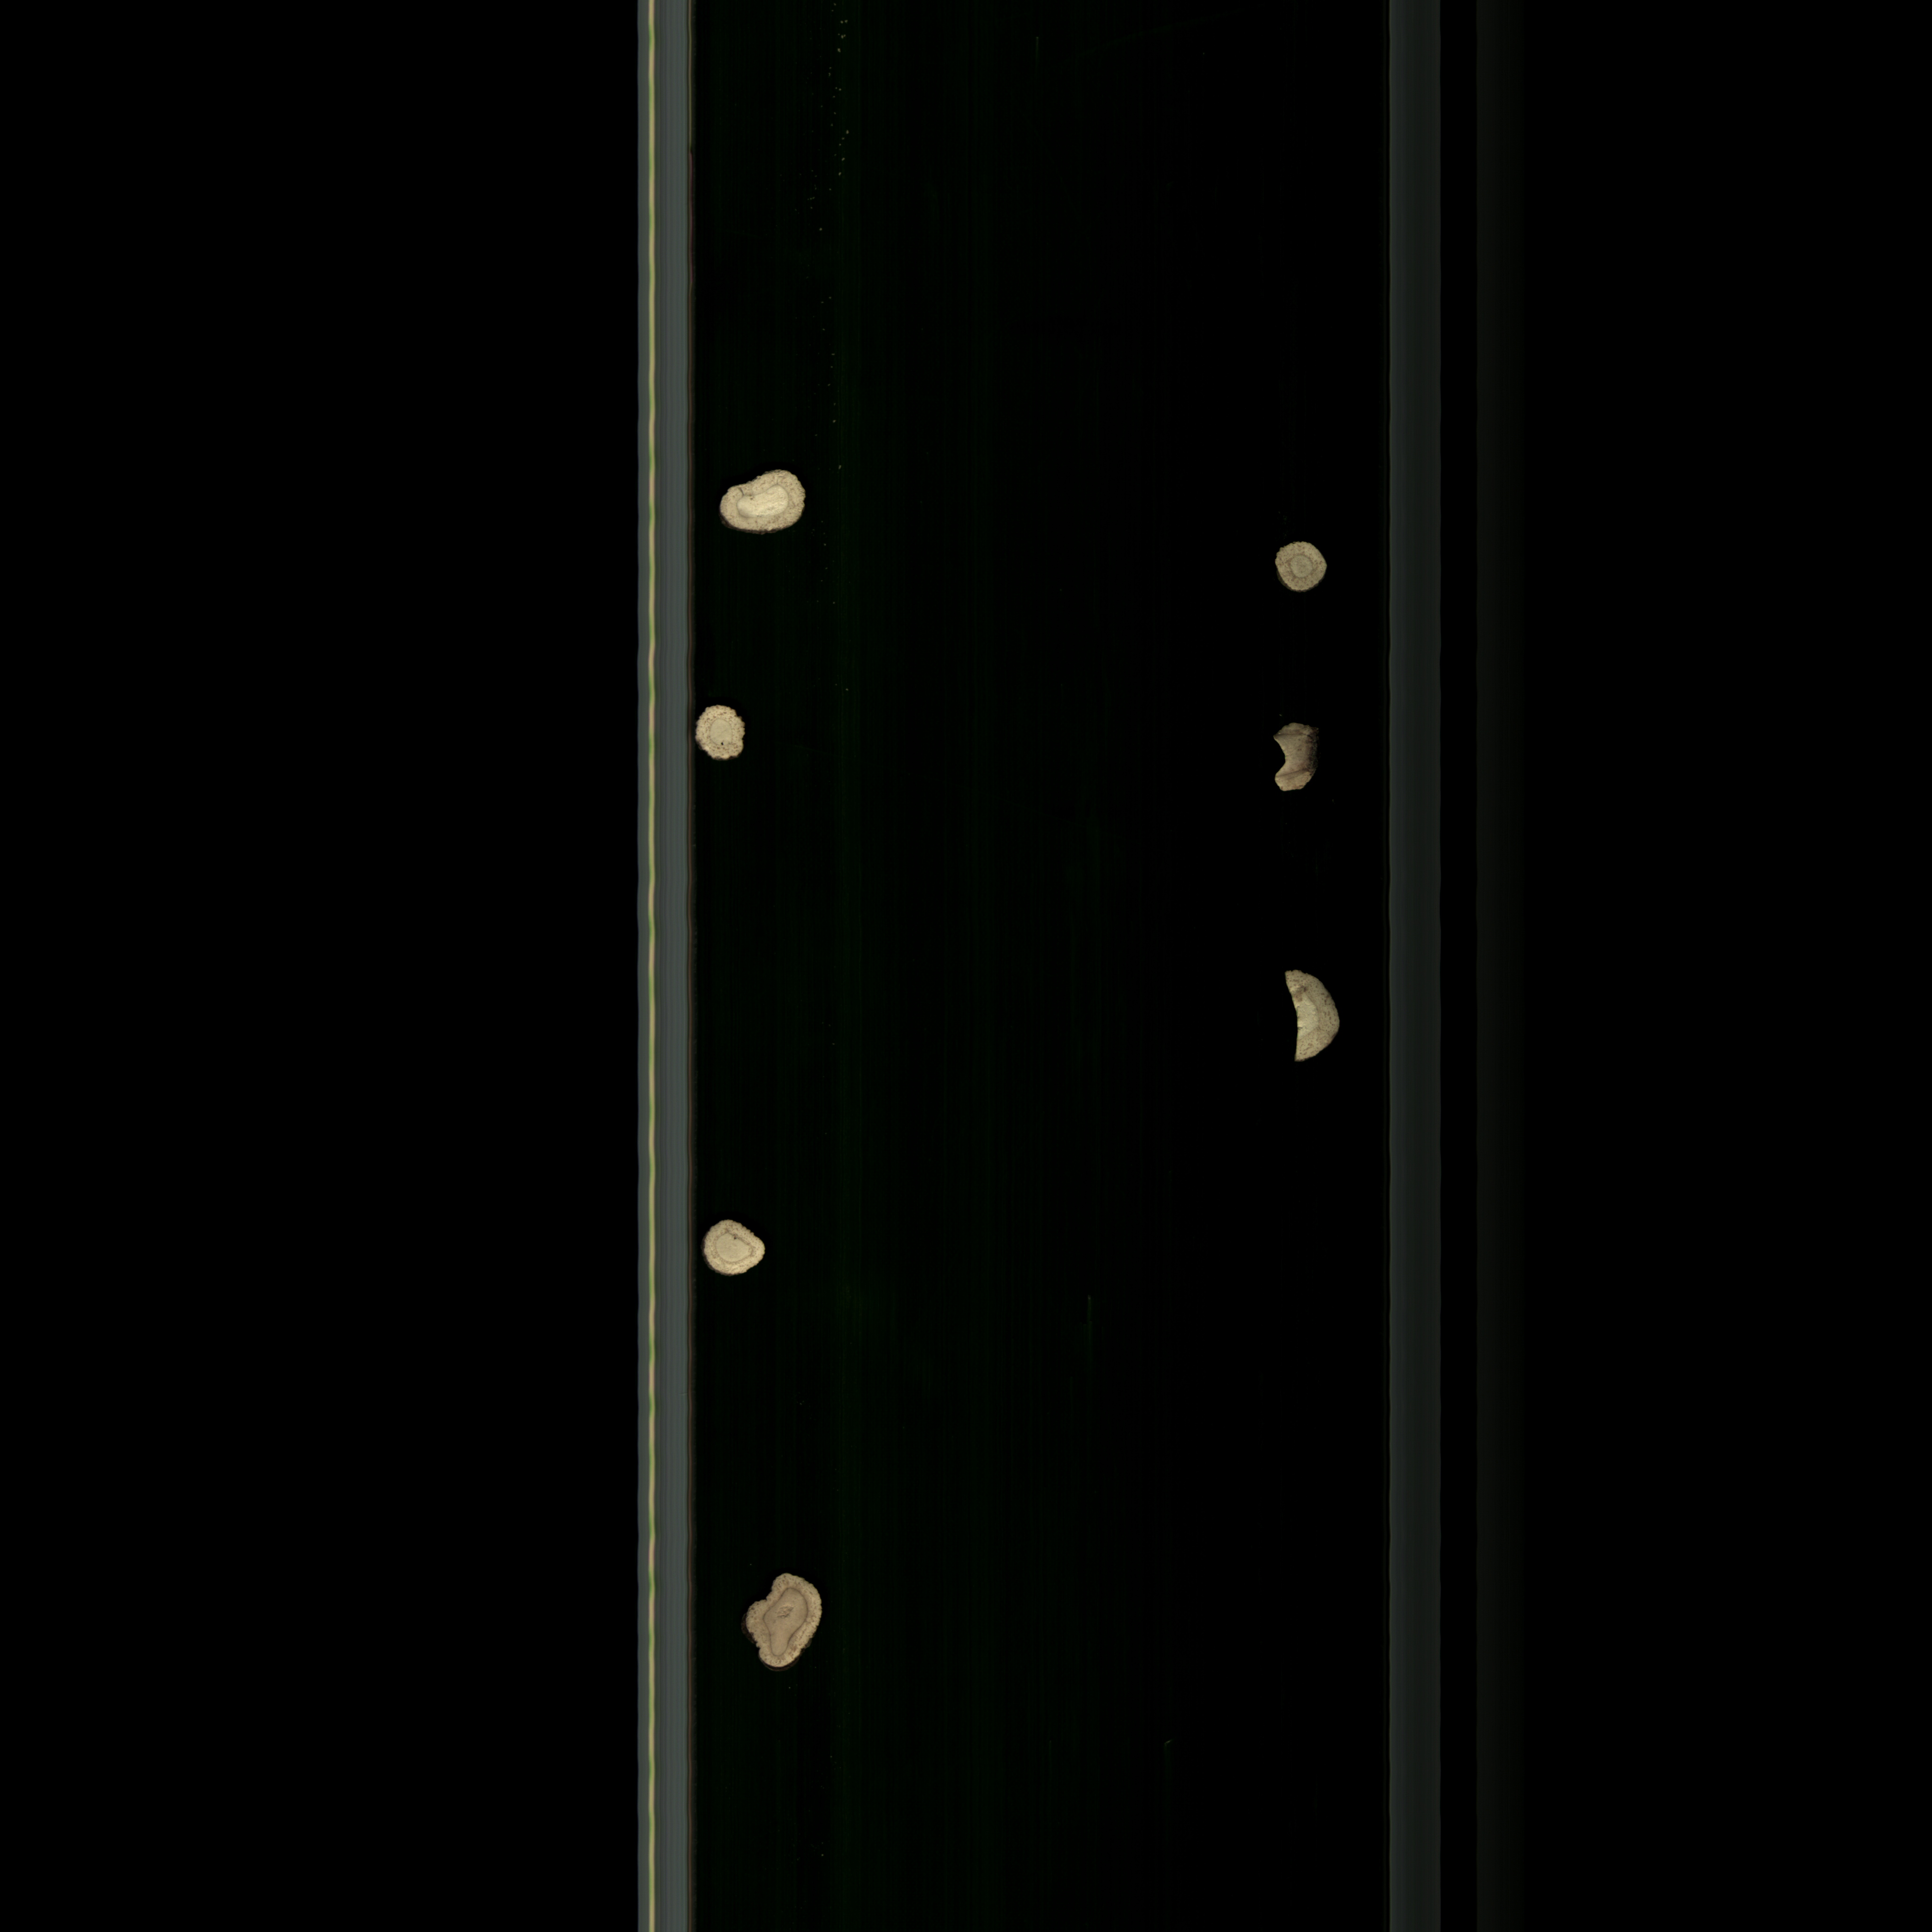debris: (1261, 962, 1357, 1067)
distortion: (699, 465, 814, 547)
hole: (688, 704, 754, 771)
moldy: (725, 1568, 837, 1693), (1261, 713, 1334, 810)
